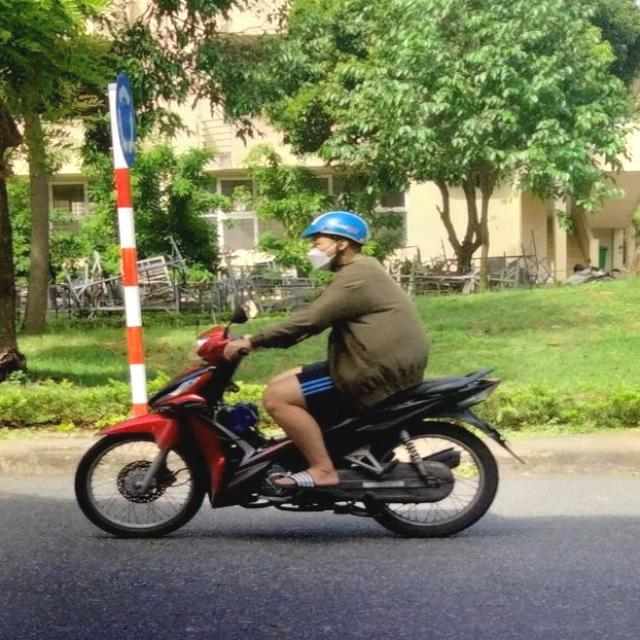Helmet: (304, 208, 368, 274)
